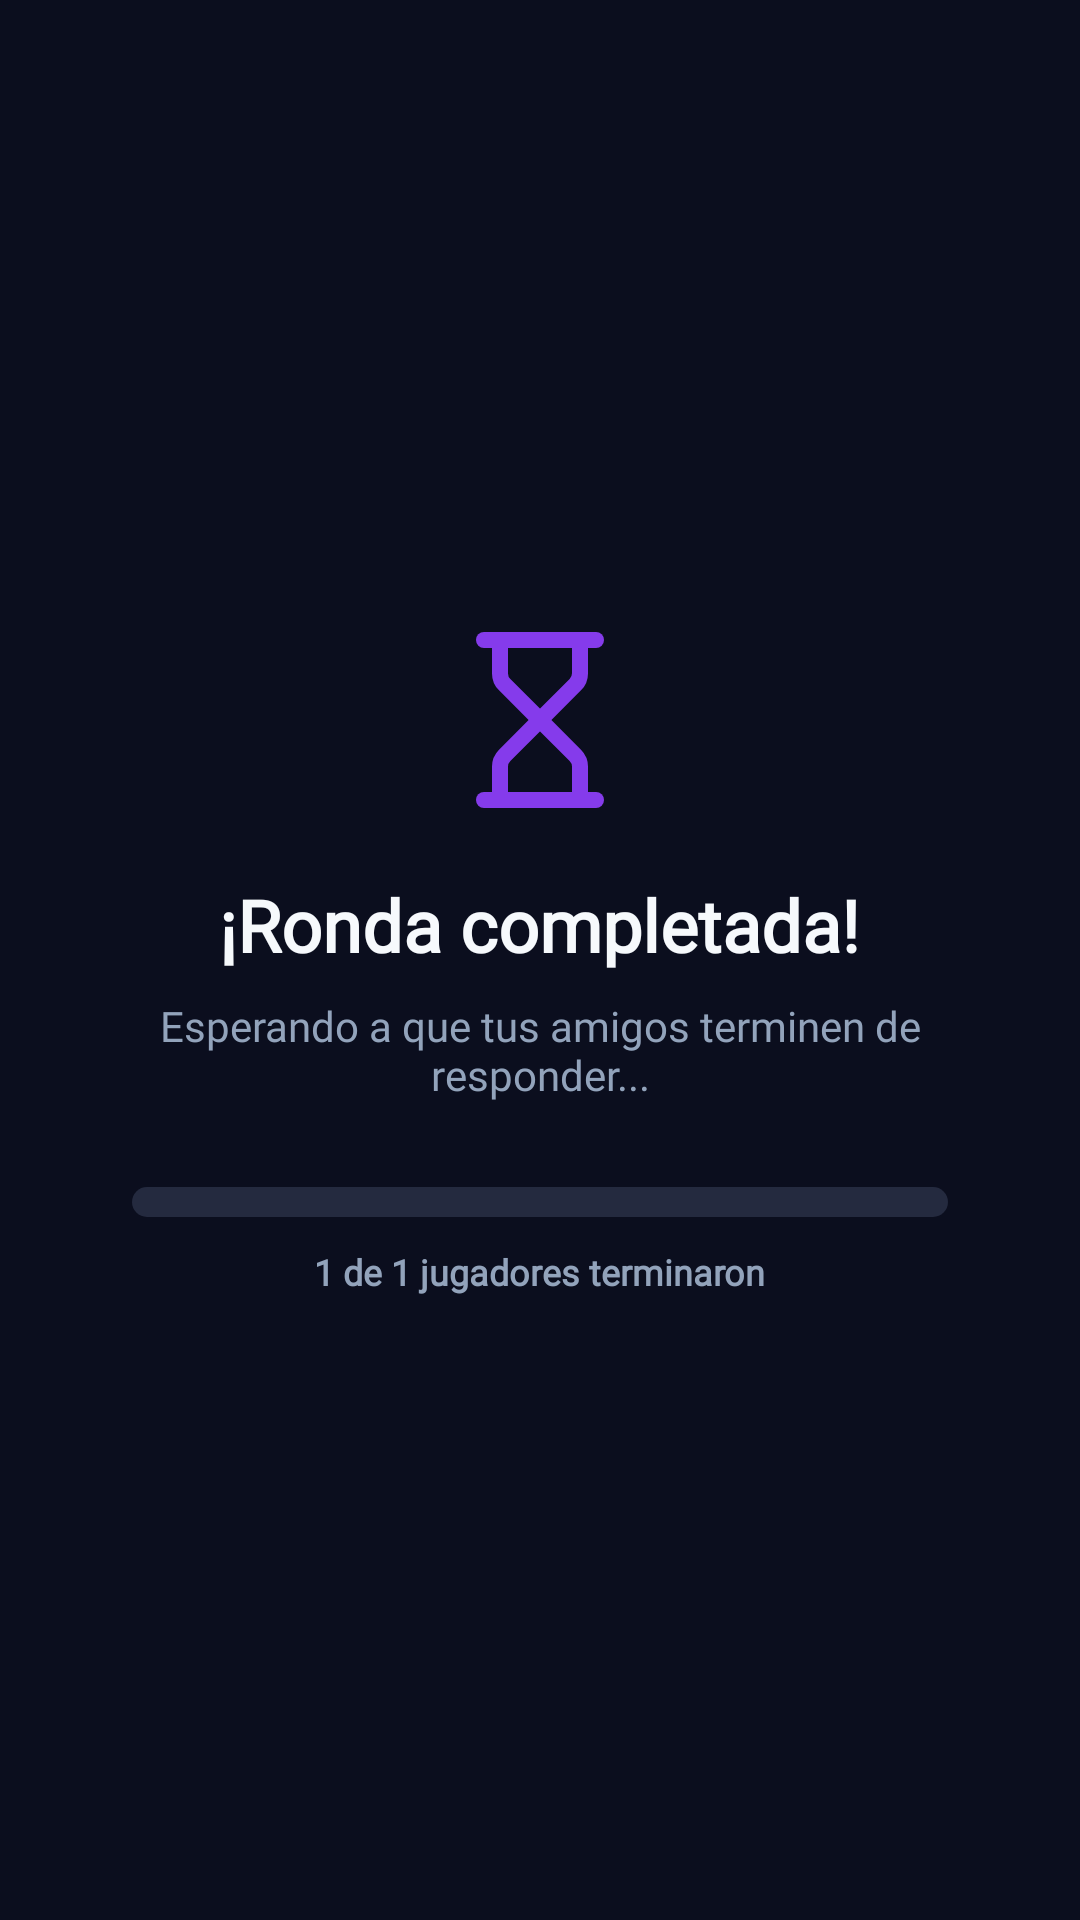

Icons on this 1080×1920 Android screen, each with the point to tap as [x,y]:
Reloj de arena: [540,720]
